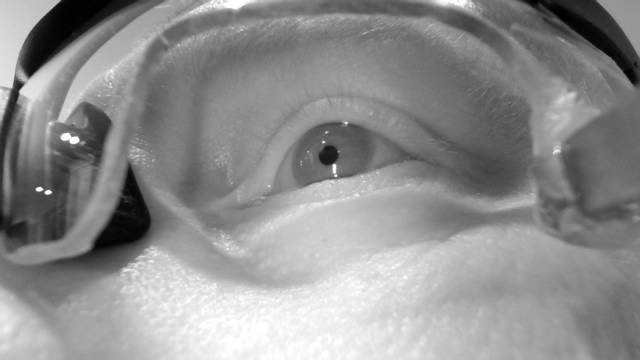pupil: (318, 144, 340, 167)
